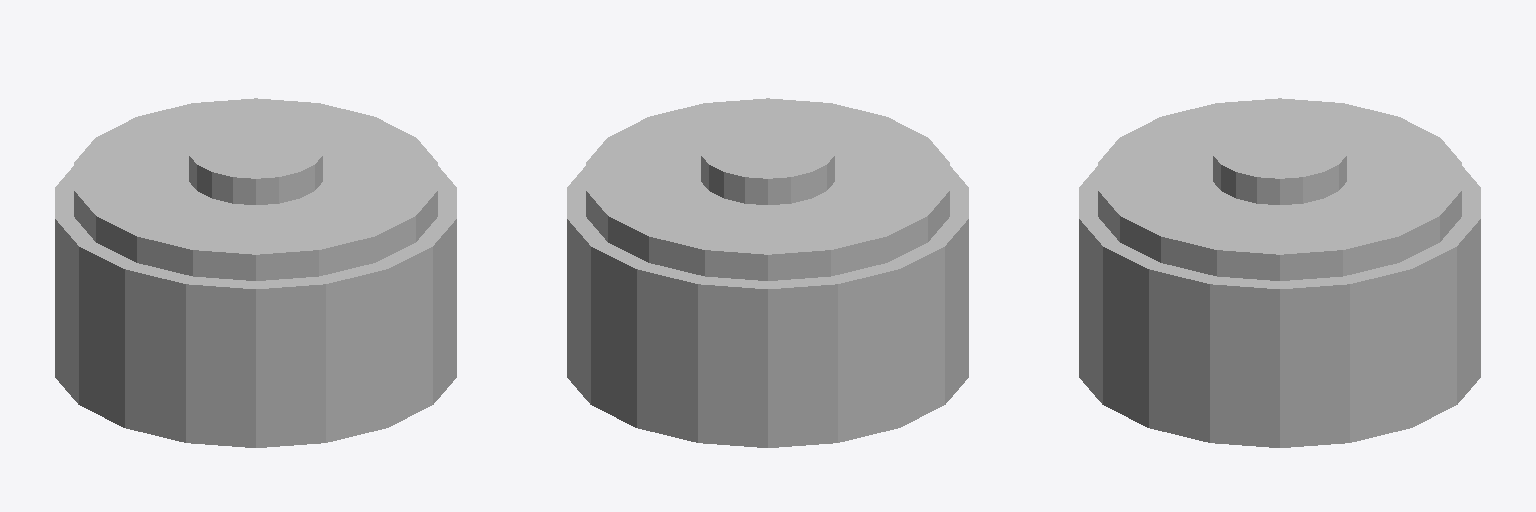
Rendered from stamper_bottom.obj.
The picture shows the model from 3 angles: view 1: azimuth 30°, elevation 25°; view 2: azimuth 150°, elevation 25°; view 3: azimuth 270°, elevation 25°; orthographic projection.
Visible parts, largest first — view 1: stamper_bottom; view 2: stamper_bottom; view 3: stamper_bottom.
Boxes of the visible parts, x1,y1,x2,y2 form: stamper_bottom: [55, 98, 456, 447]; stamper_bottom: [567, 98, 968, 447]; stamper_bottom: [1079, 98, 1480, 447].
Size of the model in its own units: 16.54 by 9.45 by 16.28.